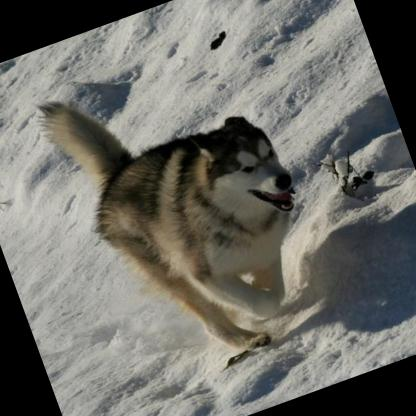malamute: (28, 25, 344, 394)
